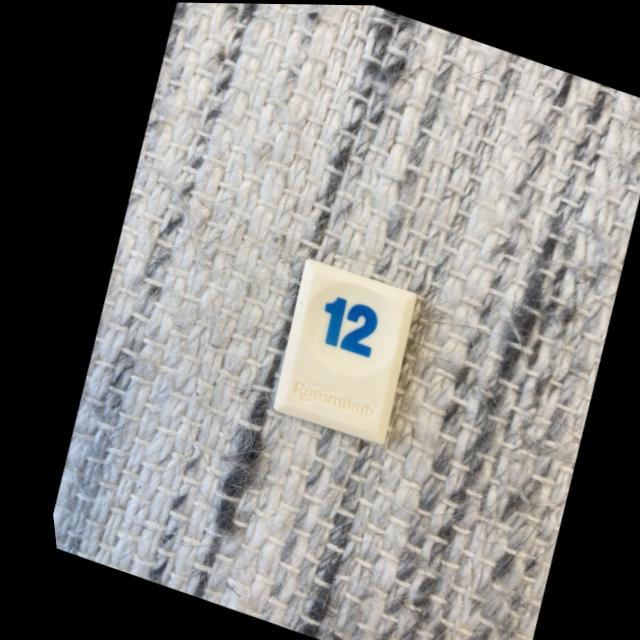blue_12: (264, 257, 409, 443)
